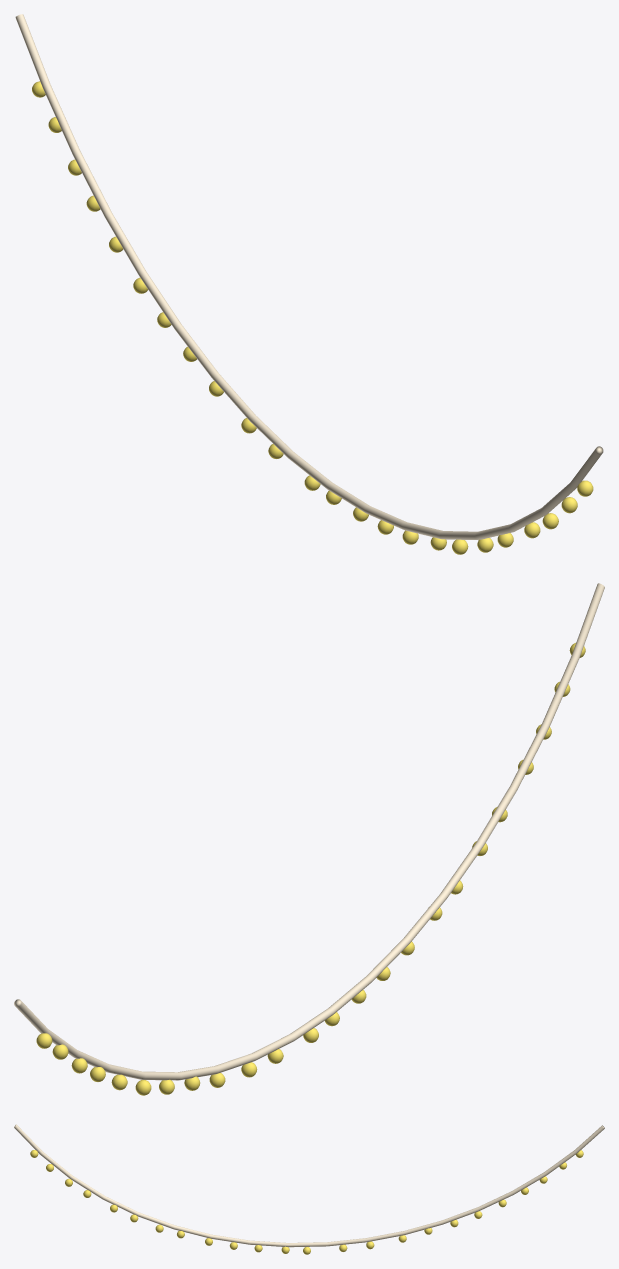
Rendered from garland_lights.fbx.
The picture shows the model from 3 angles, top to bottom: view 1: azimuth 30°, elevation 25°; view 2: azimuth 150°, elevation 25°; view 3: azimuth 270°, elevation 25°; orthographic projection. The views are drawn at different scales.
Visible parts, largest first — view 1: pSphere25; view 2: pSphere25; view 3: pSphere25.
Part boxes in pixels (bbox=[...]): pSphere25: bbox=[15, 14, 603, 554]; pSphere25: bbox=[14, 583, 604, 1095]; pSphere25: bbox=[14, 1124, 604, 1254].
Size of the model in its own units: 0.00142 by 0.0224 by 0.0926.
Materials: 2 (2 with a texture image).
